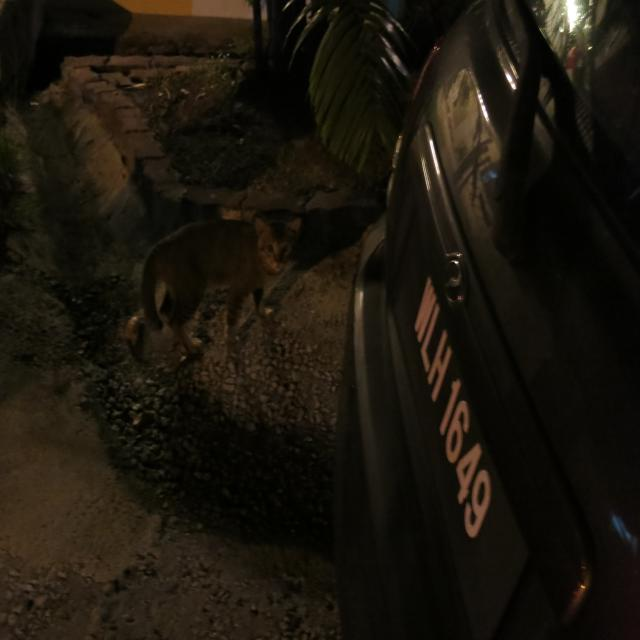Cat: (123, 208, 310, 367)
car: (342, 4, 640, 640)
